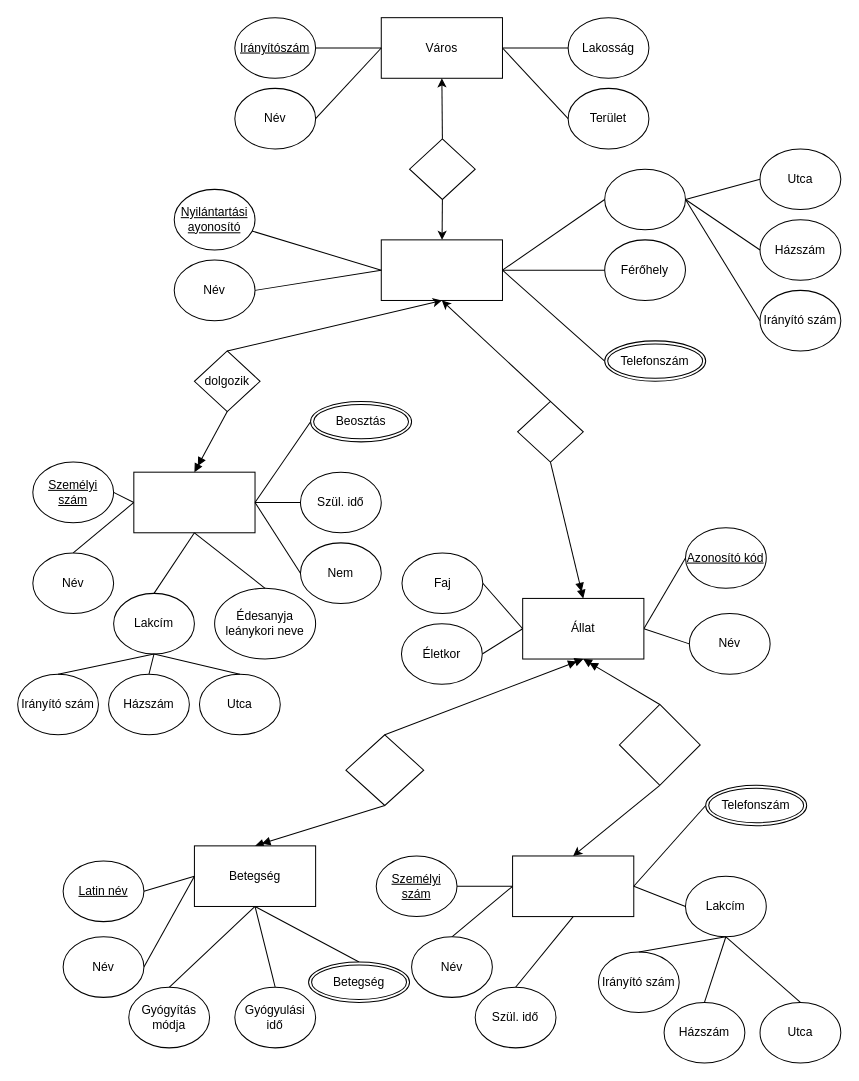
This 859x1081 diagram has some shape labels left out. Each missing label, with the centre of its shape:
"befogad" goes at (x=550, y=431).
"Cím" goes at (x=644, y=199).
"Dolgozó" goes at (x=194, y=502).
"Menhely" goes at (x=441, y=269).
"rendelkezik" goes at (x=384, y=769).
"tartalmaz" goes at (x=442, y=168).
"örökbefogad" goes at (x=659, y=744).
"Örökbefogadó" goes at (x=573, y=886).
